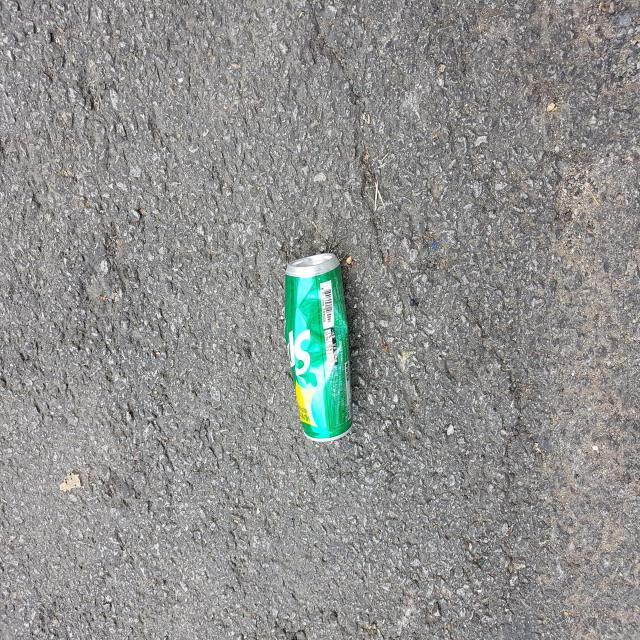can: (285, 253, 353, 442)
